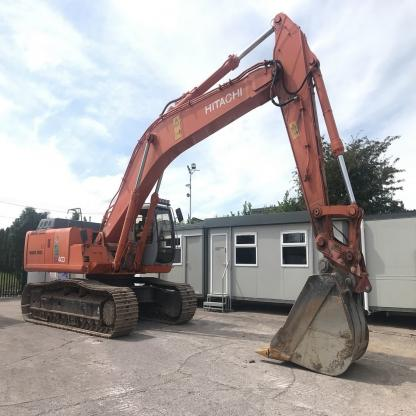excavator: (13, 13, 378, 378)
